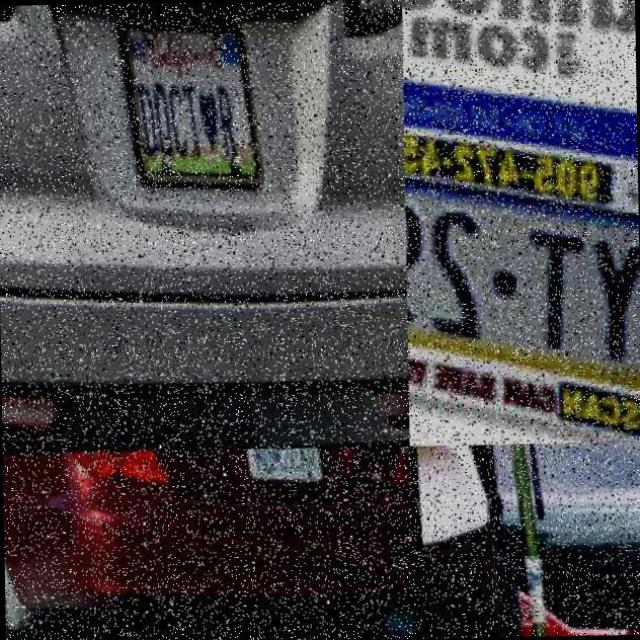LicensePlate: (404, 159, 640, 385), (113, 11, 258, 180), (401, 0, 636, 101), (240, 446, 315, 475)
